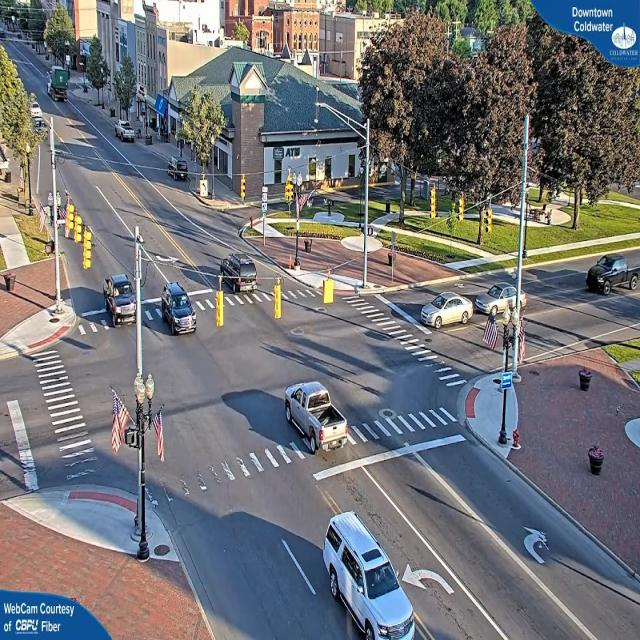car: (322, 512, 419, 638), (278, 379, 350, 458), (588, 255, 639, 296), (160, 282, 198, 336), (417, 294, 474, 327), (217, 256, 261, 295), (106, 273, 139, 324), (116, 122, 136, 143)
